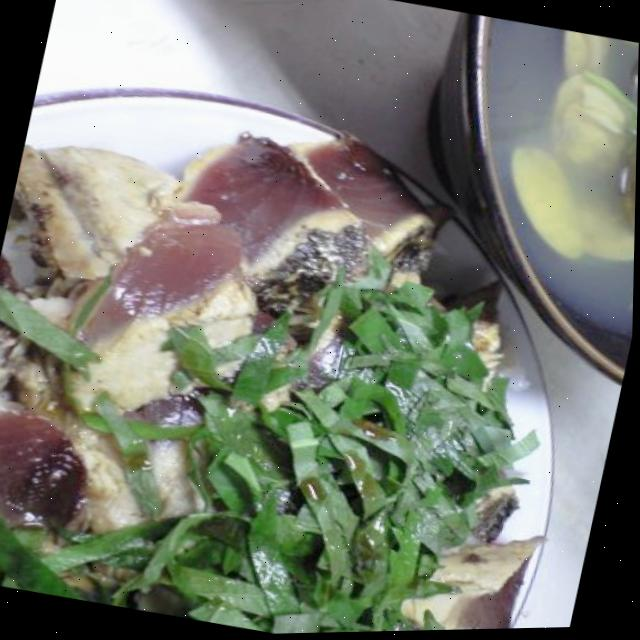熟制海鲜: (0, 4, 640, 640)
